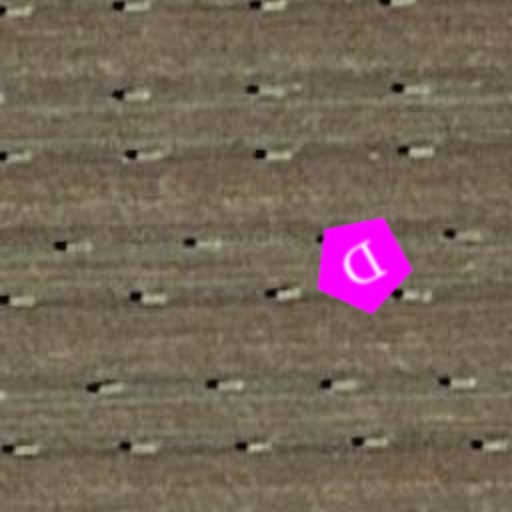pentagon: (292, 194, 432, 334)
